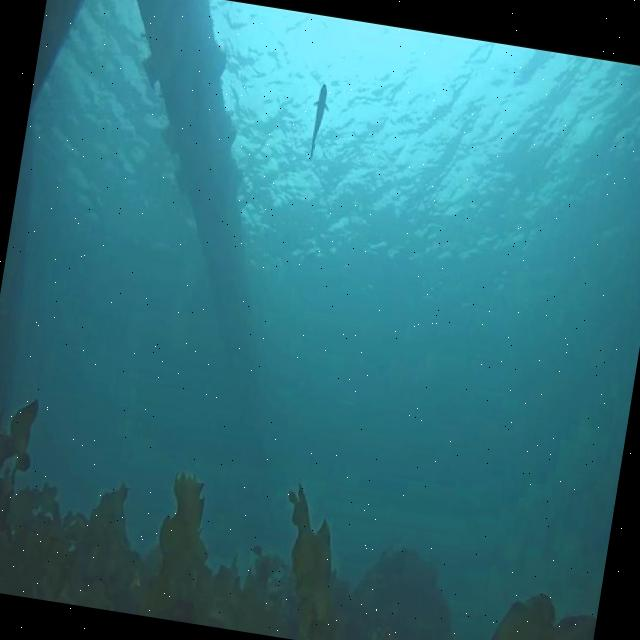fish: (306, 82, 334, 165)
